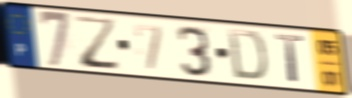3: (176, 24, 214, 79)
7: (36, 8, 73, 70), (133, 23, 164, 71)
D: (226, 27, 269, 83)
T: (274, 31, 307, 86)
Z: (72, 14, 122, 73)
